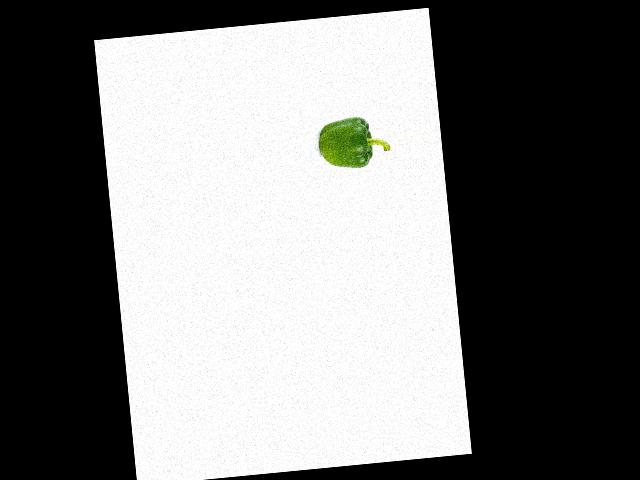bell_pepper: (316, 106, 390, 172)
